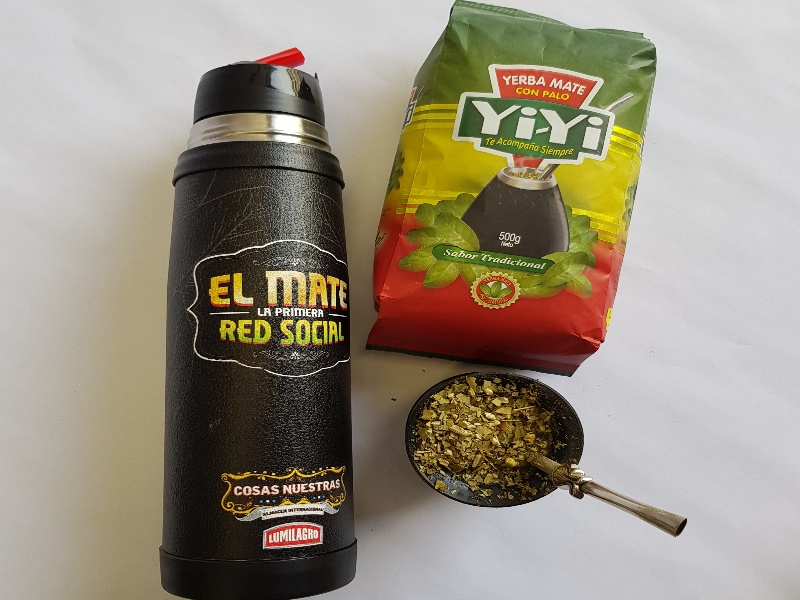guampa: (395, 368, 699, 554)
